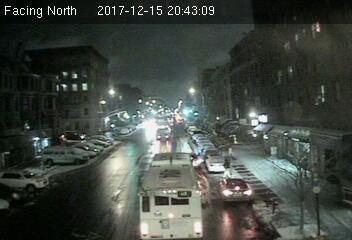bus: (139, 152, 207, 239)
car: (219, 176, 251, 202), (206, 154, 228, 174)
